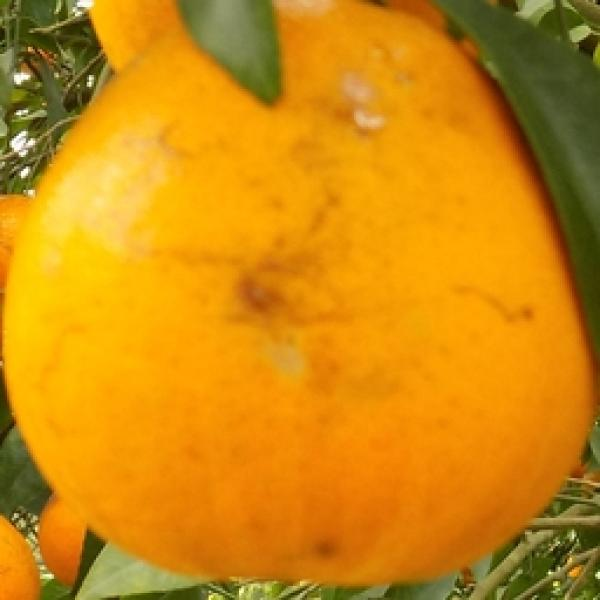Machas negras: (0, 0, 584, 581)
